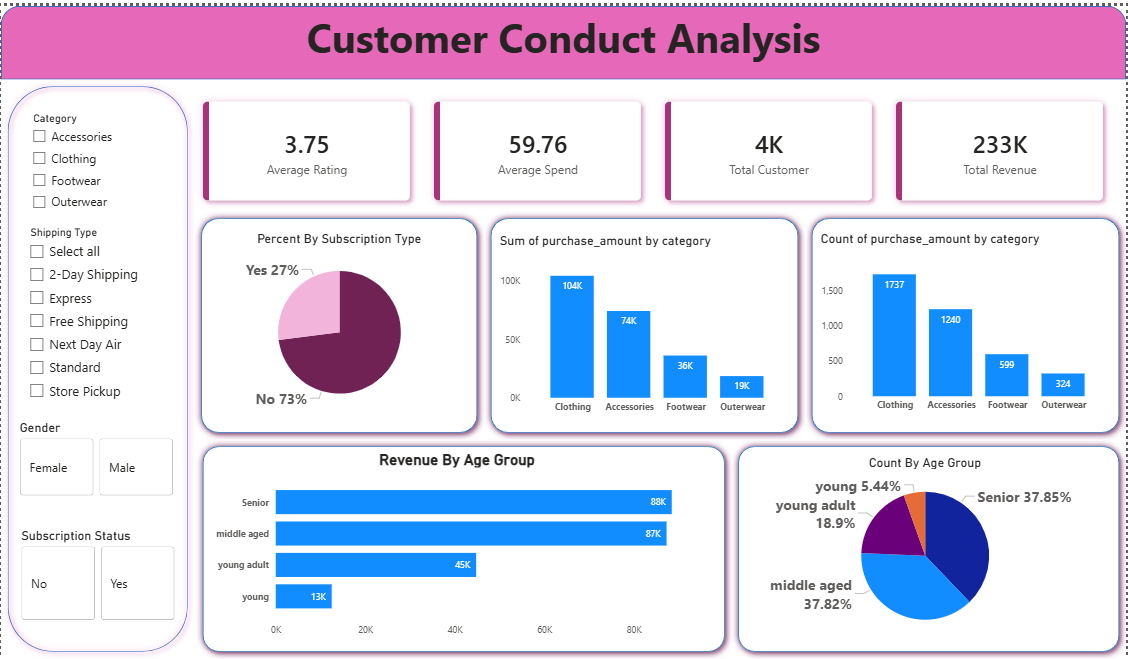

This screenshot's page, from the dashboard's own definition file:
{"tool":"powerbi","page":{"name":"Page 1","canvas":[1500,870],"ordinal":0},"visuals":[{"type":"cardVisual","fields":{"Data":["customer_shopping customer_shop.Average Rating","customer_shopping customer_shop.Average Spend","customer_shopping customer_shop.Total Customer","customer_shopping customer_shop.Total Revenue"]},"box":[240,98,1260,190],"z":0},{"type":"shape","box":[0,0,1500,98],"z":1000},{"type":"textbox","box":[0,0,1500,82],"z":2000},{"type":"shape","box":[258,274,386,304],"z":3000},{"type":"pieChart","title":"Percent By Subscription Type","fields":{"Category":["customer_shopping customer_shop.subscription_status"],"Y":["CountNonNull(customer_shopping customer_shop.subscription_status)"]},"box":[280,300,342,250],"z":4000},{"type":"shape","box":[644,274,428,304],"z":5000},{"type":"clusteredColumnChart","fields":{"Category":["customer_shopping customer_shop.category"],"Y":["Sum(customer_shopping customer_shop.purchase_amount)"]},"box":[660,302,394,250],"z":6000},{"type":"shape","box":[1072,274,428,304],"z":7000},{"type":"clusteredColumnChart","fields":{"Category":["customer_shopping customer_shop.category"],"Y":["CountNonNull(customer_shopping customer_shop.purchase_amount)"]},"box":[1088,300,394,250],"z":8000},{"type":"shape","box":[0,98,258,772],"z":9000},{"type":"slicer","fields":{"Values":["customer_shopping customer_shop.category"]},"box":[30,136,198,166],"z":10000},{"type":"slicer","fields":{"Values":["customer_shopping customer_shop.shipping_type"]},"box":[26,288,208,262],"z":11000},{"type":"advancedSlicerVisual","title":"Gender","fields":{"Values":["customer_shopping customer_shop.gender"]},"box":[20,552,214,106],"z":12000},{"type":"advancedSlicerVisual","title":"Subscription Status","fields":{"Values":["customer_shopping customer_shop.subscription_status"]},"box":[22,696,214,128],"z":13000},{"type":"shape","box":[260,578,714,292],"z":14000},{"type":"clusteredBarChart","title":"Revenue By Age Group","fields":{"Category":["customer_shopping customer_shop.age_category"],"Y":["Sum(customer_shopping customer_shop.purchase_amount)"]},"box":[280,592,656,258],"z":15000},{"type":"shape","box":[974,578,526,292],"z":15001},{"type":"pieChart","title":"Count By Age Group","fields":{"Category":["customer_shopping customer_shop.age_category"],"Series":["customer_shopping customer_shop.age_category"],"Y":["CountNonNull(customer_shopping customer_shop.age_category)"]},"box":[998,598,468,250],"z":15002}]}

Visuals, with their boxes in screenshot pixels (x1, y1, x2, y2), scaled from the page's 1500x870 canvas onto the 1128x659 screenshot:
cardVisual - customer_shopping customer_shop.Average Rating x customer_shopping customer_shop.Average Spend: detection(180, 74, 1127, 218)
shape: detection(0, 0, 1127, 74)
textbox: detection(0, 0, 1127, 62)
shape: detection(194, 208, 484, 438)
"Percent By Subscription Type" pieChart: detection(211, 227, 468, 417)
shape: detection(484, 208, 806, 438)
clusteredColumnChart - customer_shopping customer_shop.category x Sum(customer_shopping customer_shop.purchase_amount): detection(496, 229, 793, 418)
shape: detection(806, 208, 1127, 438)
clusteredColumnChart - customer_shopping customer_shop.category x CountNonNull(customer_shopping customer_shop.purchase_amount): detection(818, 227, 1114, 417)
shape: detection(0, 74, 194, 658)
slicer - customer_shopping customer_shop.category: detection(23, 103, 171, 229)
slicer - customer_shopping customer_shop.shipping_type: detection(20, 218, 176, 417)
"Gender" advancedSlicerVisual: detection(15, 418, 176, 498)
"Subscription Status" advancedSlicerVisual: detection(17, 527, 177, 624)
shape: detection(196, 438, 732, 658)
"Revenue By Age Group" clusteredBarChart: detection(211, 448, 704, 644)
shape: detection(732, 438, 1127, 658)
"Count By Age Group" pieChart: detection(750, 453, 1102, 642)
